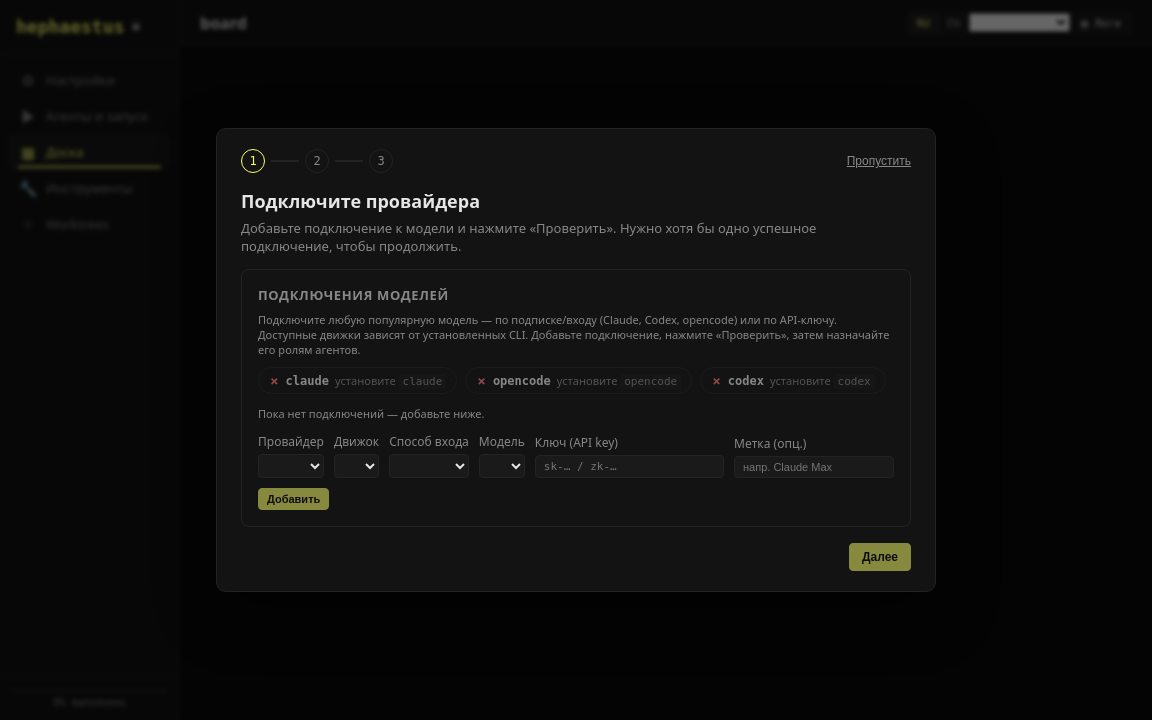
Test: AppShell › reopens the wizard from the banner
Click the button with test id "wiz-skip": coordinates (879, 161) [847, 154, 911, 168]
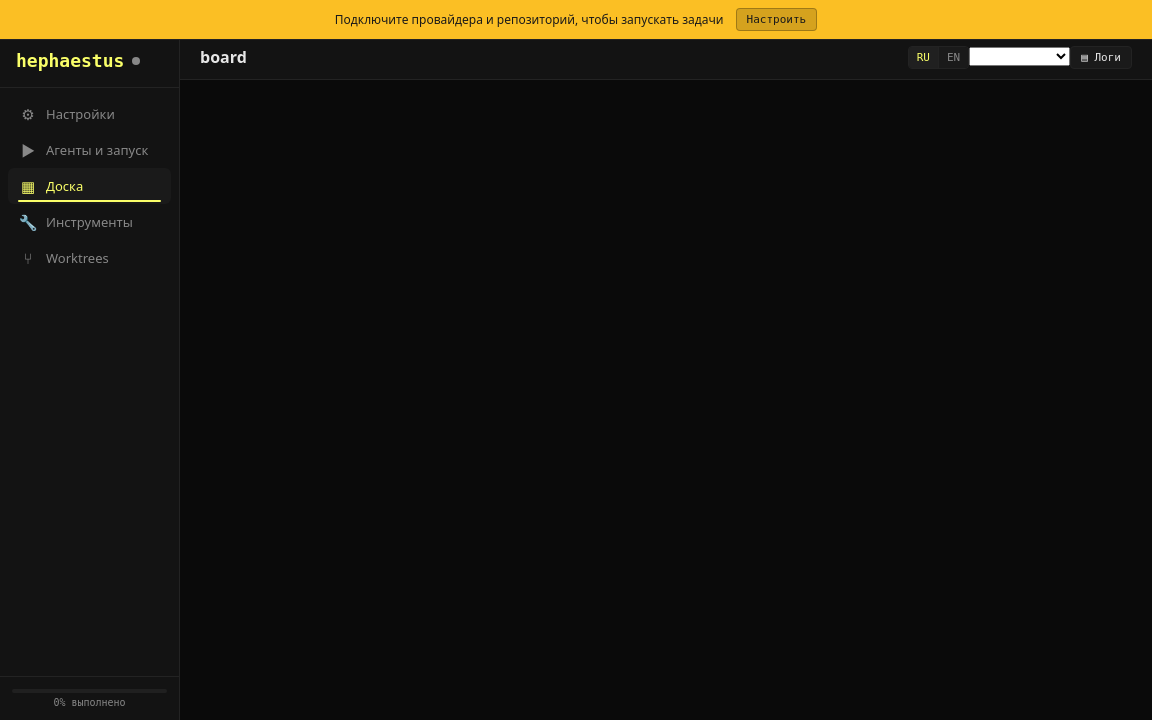
Result: the element with test id "onboard-banner" is shown at [0, 0, 1151, 40]
Click the button with test id "onboard-reopen": coordinates (776, 20) [736, 8, 817, 31]
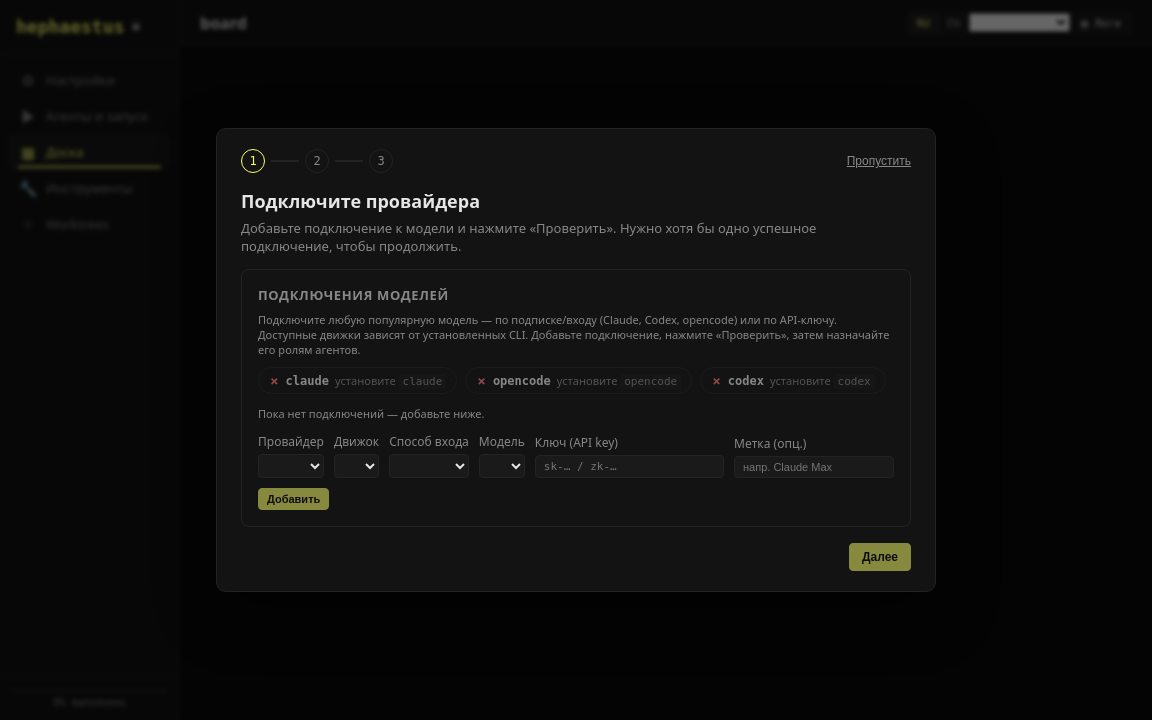
Result: the element with test id "onboard-wizard" is shown
